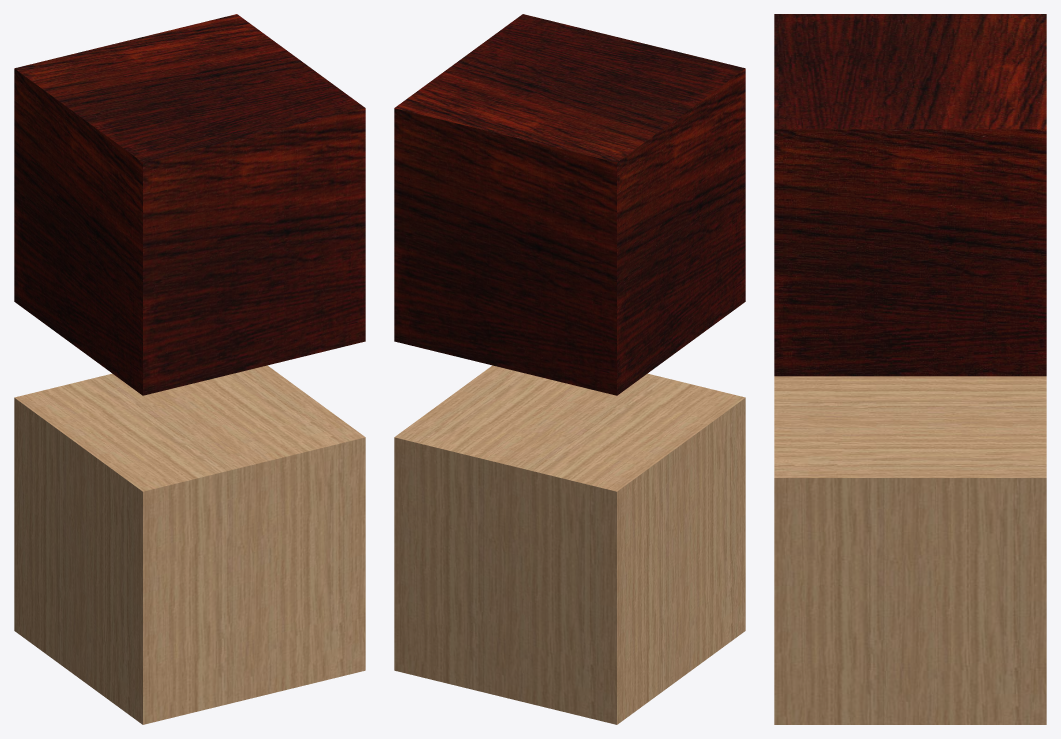
File: testbox2.obj
The picture shows the model from 3 angles, left to right: view 1: azimuth 30°, elevation 25°; view 2: azimuth 150°, elevation 25°; view 3: azimuth 270°, elevation 25°; orthographic projection. The views are drawn at different scales.
Visible parts, largest first — view 1: Box002, Box001; view 2: Box002, Box001; view 3: Box002, Box001.
Part boxes in pixels (x1=…): Box002: x1=14, y1=14, x2=365, y2=395; Box001: x1=14, y1=365, x2=365, y2=724; Box002: x1=394, y1=14, x2=745, y2=395; Box001: x1=394, y1=365, x2=745, y2=724; Box002: x1=774, y1=14, x2=1046, y2=376; Box001: x1=774, y1=376, x2=1046, y2=724.
Bounding box in the file's own units: 100 × 241 × 100.
